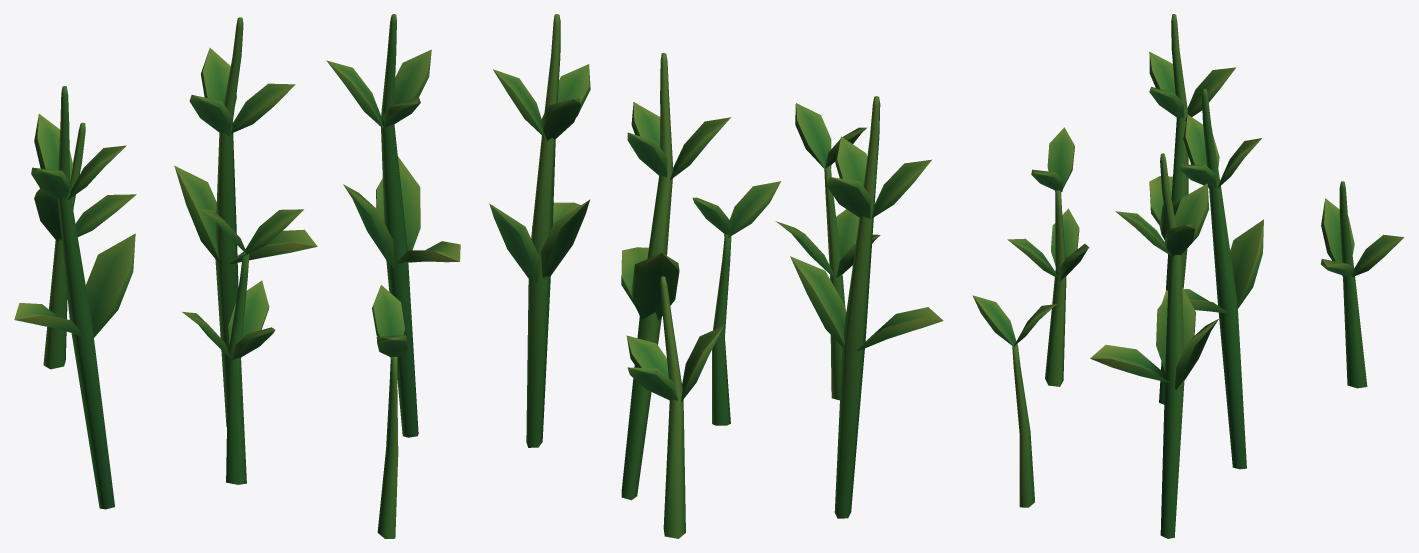
Rendered from SM_Plant_SweetBasil_Lv1.fbx.
3 views of the same model, side by side, from view 1: azimuth 30°, elevation 25°; view 2: azimuth 150°, elevation 25°; view 3: azimuth 270°, elevation 25° (orthographic). The views are drawn at different scales.
Parts seen in each view (by area): view 1: SM_Plant_SweetBasil_Lv1; view 2: SM_Plant_SweetBasil_Lv1; view 3: SM_Plant_SweetBasil_Lv1.
Boxes of the visible parts, x1,y1,x2,y2 form: SM_Plant_SweetBasil_Lv1: [14, 14, 460, 538]; SM_Plant_SweetBasil_Lv1: [489, 14, 943, 538]; SM_Plant_SweetBasil_Lv1: [972, 14, 1403, 538].
Bounding box in the file's own units: 42.25 × 42.6 × 41.94.
